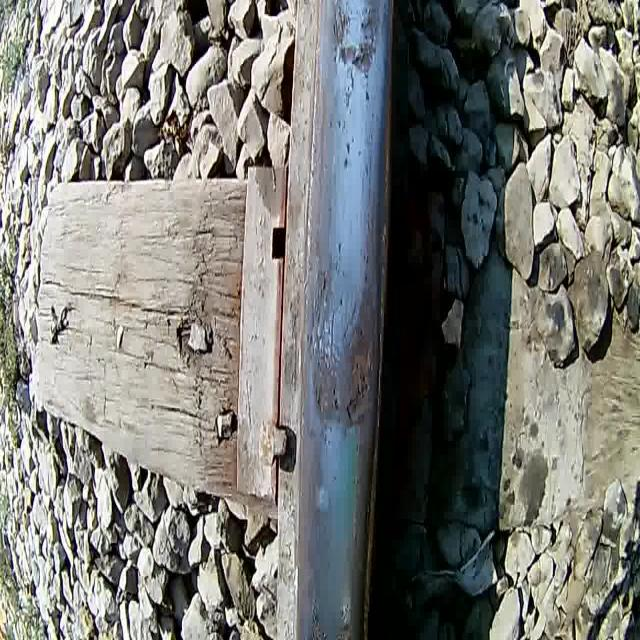Cracks: (307, 294, 339, 368), (340, 294, 360, 354)
Spallings: (354, 3, 381, 75), (343, 358, 372, 424), (313, 379, 342, 416), (329, 4, 353, 43)
Squats: (305, 233, 382, 440), (328, 0, 387, 112), (302, 587, 357, 640)
